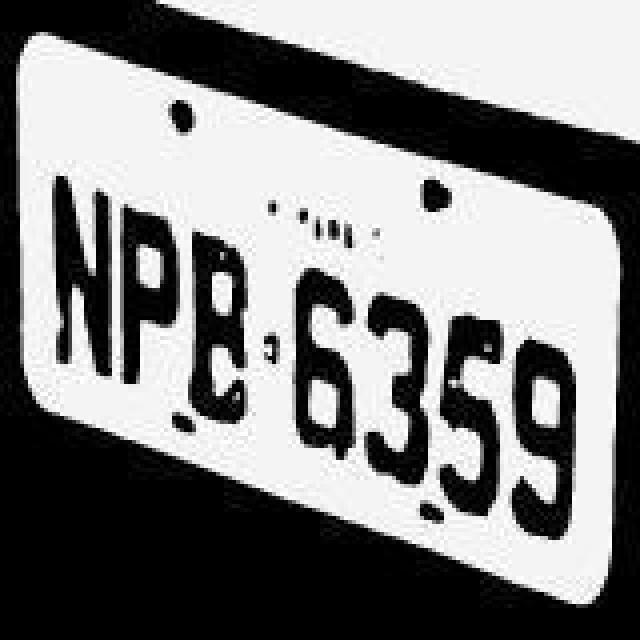3: (358, 248, 434, 496)
5: (432, 244, 504, 524)
6: (286, 250, 354, 478)
9: (510, 282, 578, 558)
B: (186, 222, 254, 434)
N: (50, 140, 118, 396)
P: (116, 192, 188, 408)
